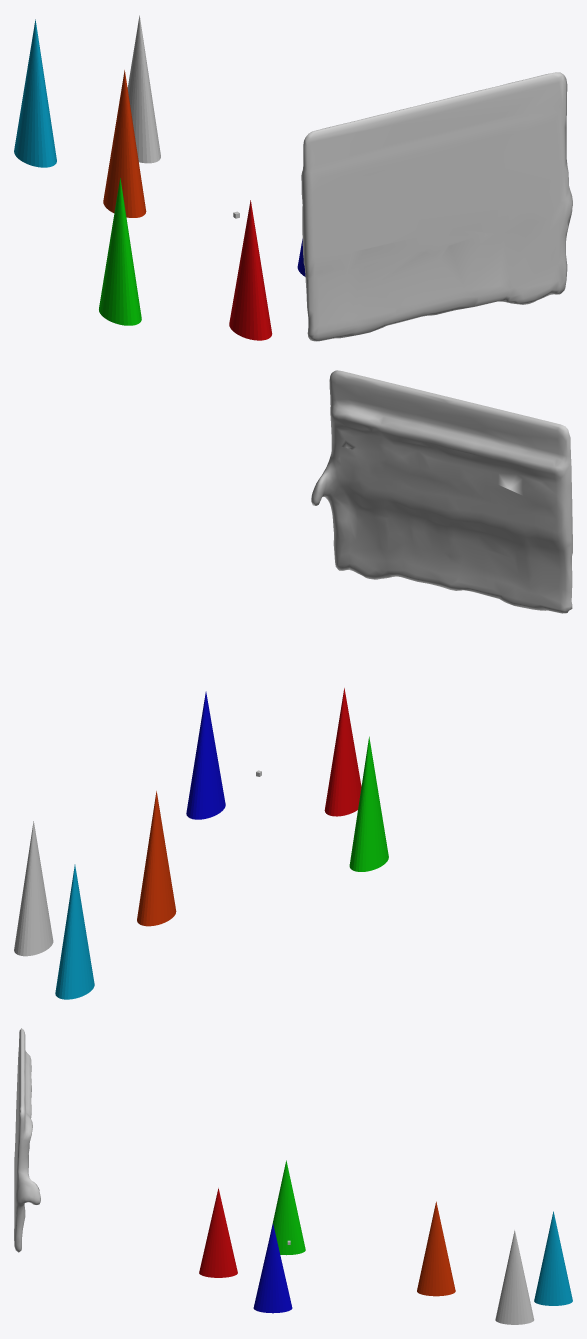
The picture shows the model from 3 angles, top to bottom: view 1: azimuth 30°, elevation 25°; view 2: azimuth 150°, elevation 25°; view 3: azimuth 270°, elevation 25°; orthographic projection. The views are drawn at different scales.
Parts seen in each view (by area): view 1: Liquid_Domain, 円錐.005, 円錐.003, 円錐.001, 円錐.004, 円錐; view 2: Liquid_Domain, 円錐.005, 円錐, 円錐.004, 円錐.003, 円錐.002, 円錐.001; view 3: Liquid_Domain, 円錐, 円錐.004, 円錐.005, 円錐.002, 円錐.001, 円錐.003.
Part boxes in pixels (bbox=[...]): Liquid_Domain: bbox=[301, 72, 572, 341]; 円錐.005: bbox=[14, 19, 56, 167]; 円錐.003: bbox=[99, 178, 141, 325]; 円錐.001: bbox=[229, 200, 272, 340]; 円錐.004: bbox=[103, 70, 146, 217]; 円錐: bbox=[127, 15, 160, 163]; Liquid_Domain: bbox=[311, 370, 572, 613]; 円錐.005: bbox=[55, 864, 94, 999]; 円錐: bbox=[14, 821, 53, 956]; 円錐.004: bbox=[137, 791, 176, 926]; 円錐.003: bbox=[349, 736, 388, 871]; 円錐.002: bbox=[186, 691, 225, 819]; 円錐.001: bbox=[324, 688, 361, 816]; Liquid_Domain: bbox=[14, 1028, 40, 1252]; 円錐: bbox=[495, 1230, 534, 1324]; 円錐.004: bbox=[417, 1201, 455, 1296]; 円錐.005: bbox=[534, 1211, 572, 1305]; 円錐.002: bbox=[253, 1224, 292, 1313]; 円錐.001: bbox=[199, 1188, 237, 1277]; 円錐.003: bbox=[271, 1160, 305, 1255].
Bounding box in the file's own units: 128 × 158 × 345.
